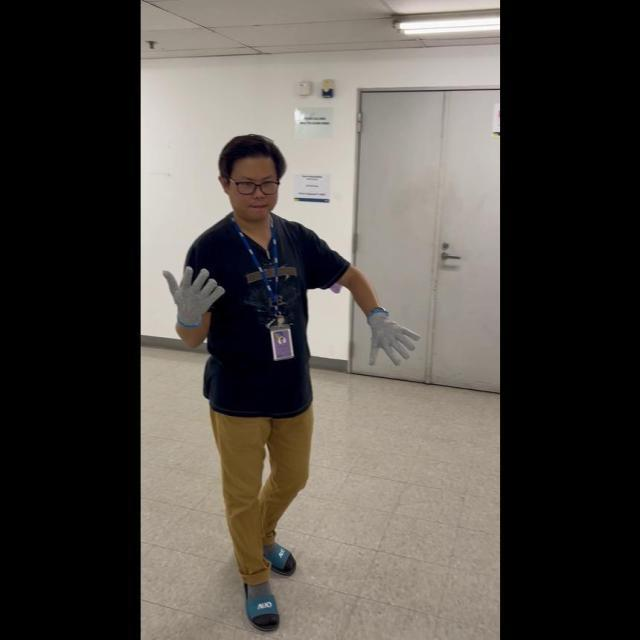gloved_hand: (161, 259, 223, 328), (361, 304, 417, 368)
